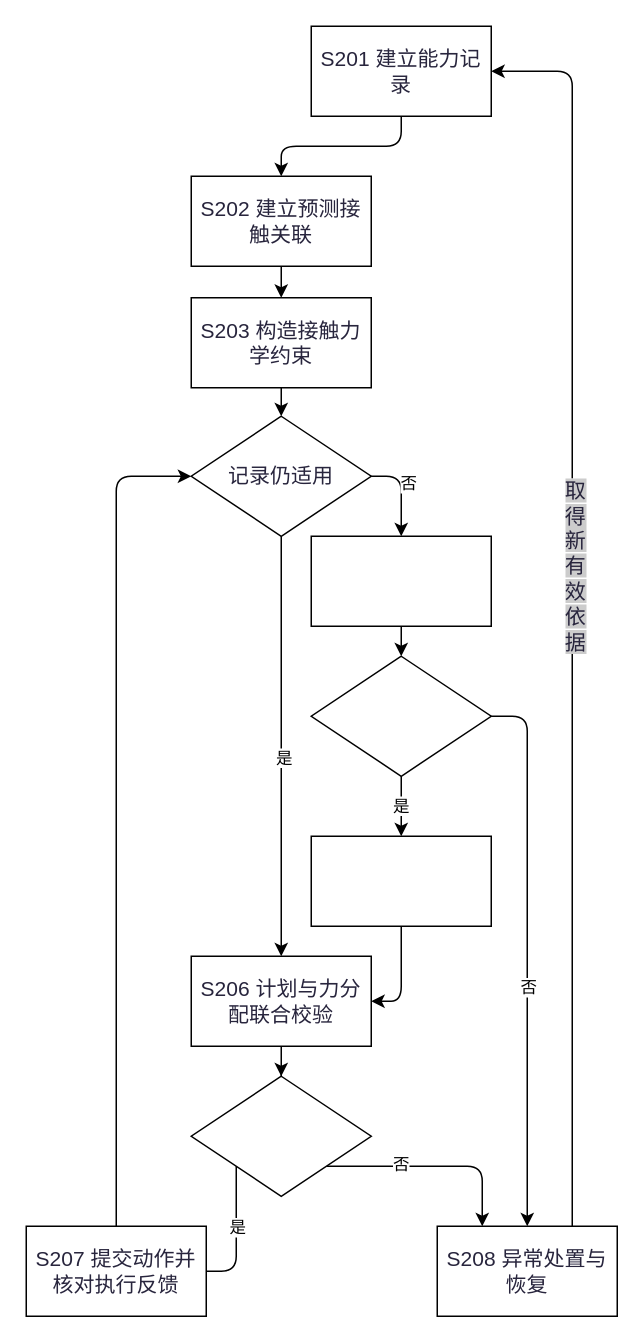
Image size: 644x1343. Some labels were removed from this diagram. The centre of each missing label's shape, as x and y in pixels:
"S204 停用旧批准并核验过渡状态" belongs at [400,580].
"S205 前后关联动作重算" belongs at [400,880].
"提交条件满足" belongs at [280,1135].
"过渡可确认可行" belongs at [400,715].
